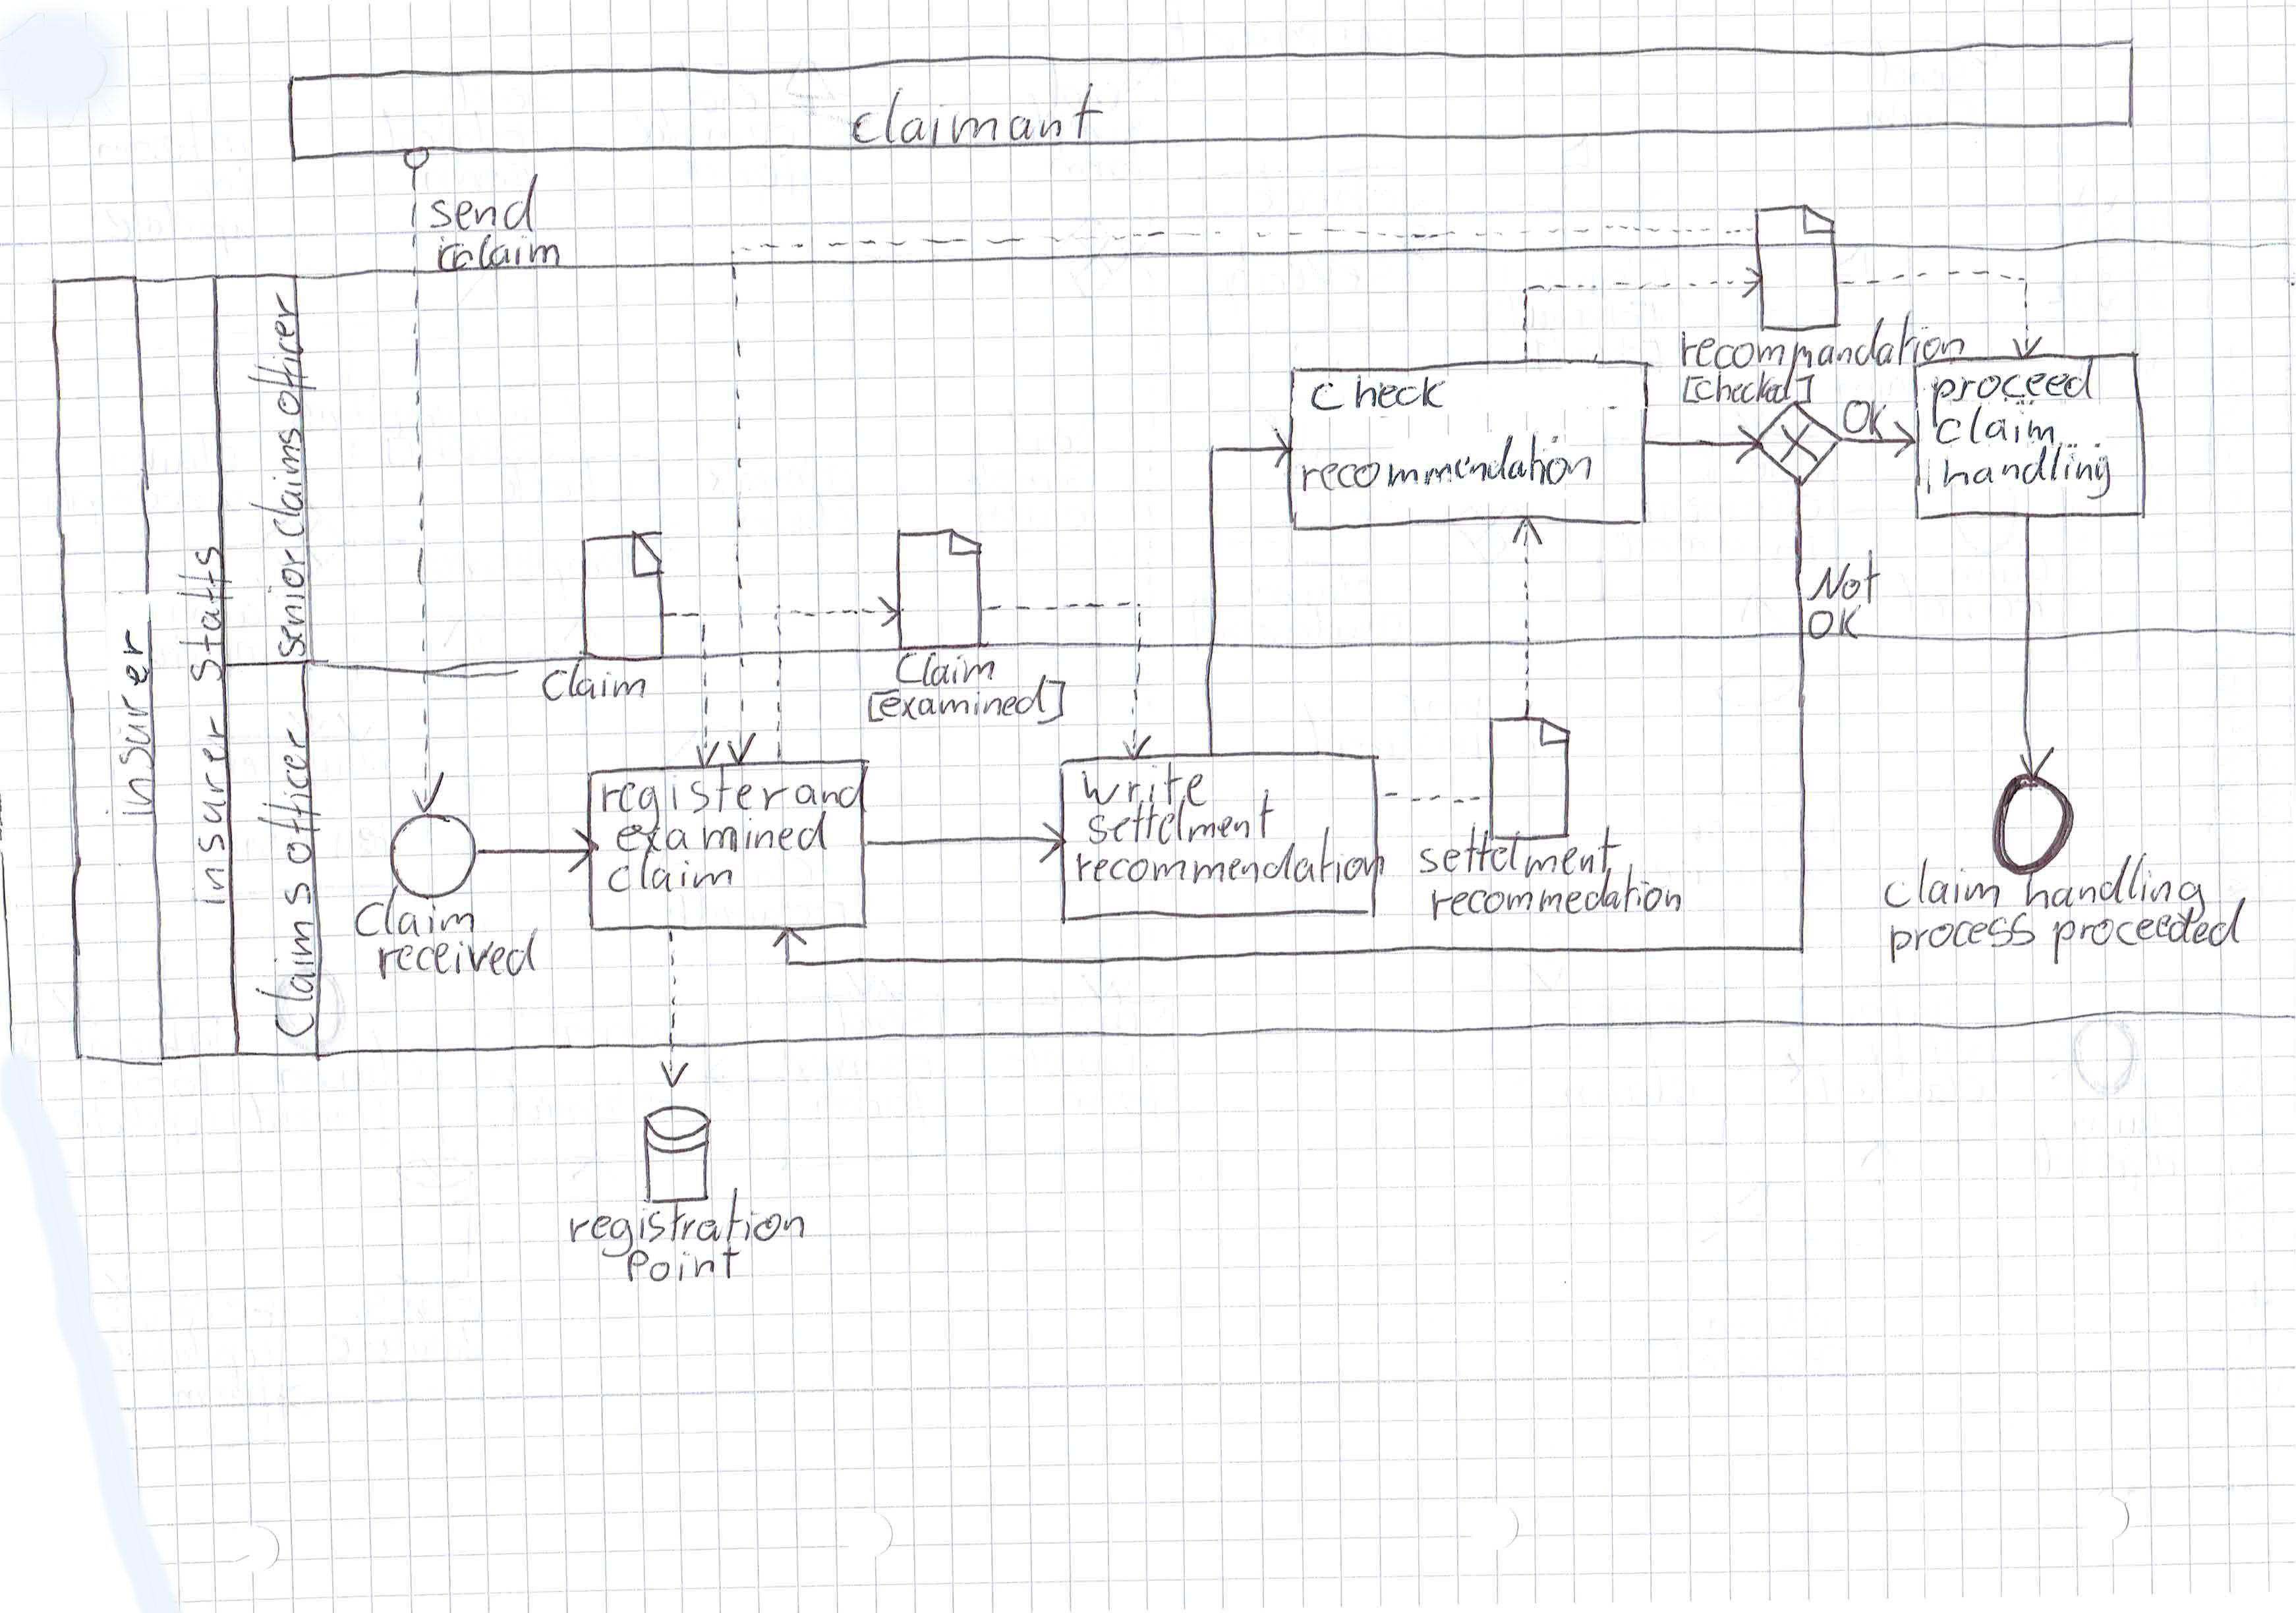Claim: (890, 648, 1002, 693)
Not: (1800, 543, 1886, 611)
OK: (1800, 599, 1868, 646), (1835, 393, 1893, 447)
Point: (622, 1234, 746, 1288)
[checked]: (1676, 365, 1819, 412)
[examined]: (861, 669, 1072, 731)
and: (787, 761, 876, 815)
check: (1303, 368, 1454, 419)
claim: (347, 876, 482, 944), (1877, 850, 2008, 918), (599, 845, 739, 901), (431, 225, 567, 279), (1928, 398, 2060, 450), (534, 651, 655, 705)
claimant: (843, 75, 1109, 159)
claims: (248, 875, 327, 1046), (243, 422, 314, 545)
examined: (608, 803, 840, 861)
handling: (2018, 845, 2212, 930), (1936, 436, 2116, 508)
insurer: (94, 620, 161, 827), (183, 702, 234, 913)
officer: (248, 721, 330, 873), (239, 285, 323, 421)
proceed: (1926, 347, 2102, 433)
proceeded: (2046, 890, 2252, 971)
process: (1884, 906, 2043, 969)
received: (370, 920, 548, 986)
recommandation: (1673, 304, 1973, 374)
recommedation: (1425, 857, 1690, 927)
recommendation: (1070, 817, 1393, 892), (1296, 422, 1601, 501)
register: (594, 761, 798, 841)
registration: (562, 1180, 812, 1264)
send: (423, 168, 547, 237)
senior: (260, 543, 314, 662)
settelment: (1409, 815, 1627, 885), (1079, 782, 1283, 852)
staffs: (169, 541, 239, 688)
write: (1074, 756, 1215, 813)
